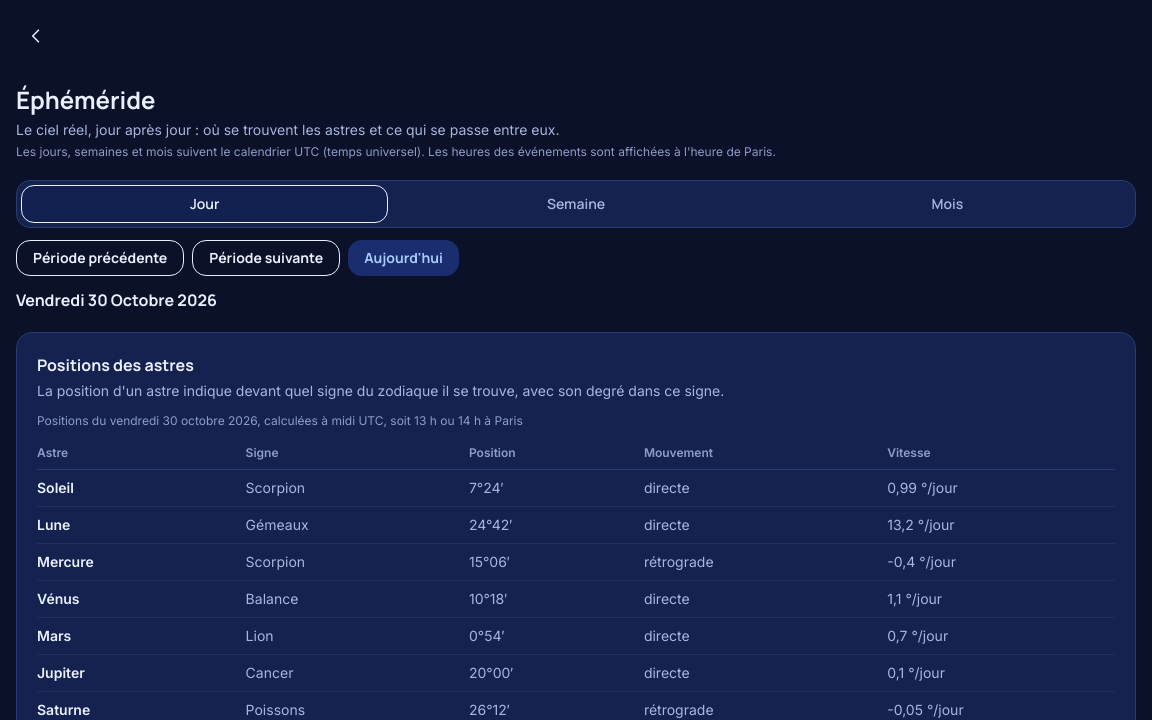
Test case: EphemerisFlow › navigue vers la période suivante puis revient à aujourd'hui
Step 1. Click the button "Période suivante" → (266, 258), box [192,240,340,276]
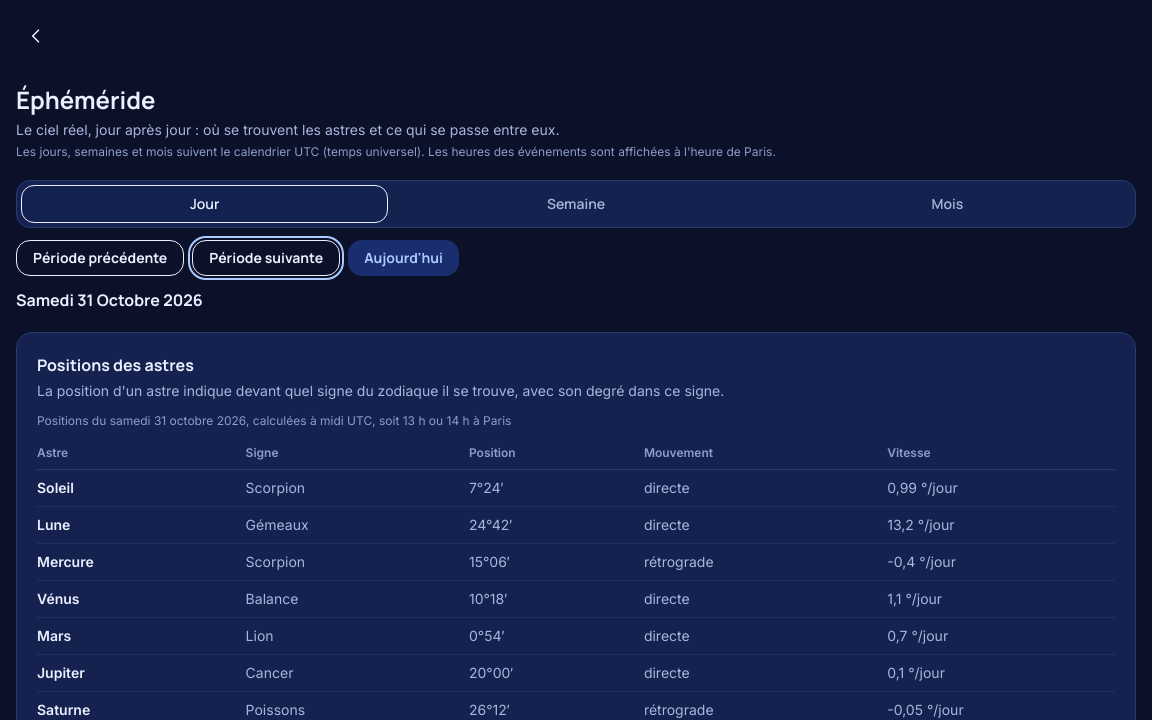
Step 2. Click the button "Aujourd'hui" → (404, 258), box [348,240,459,276]
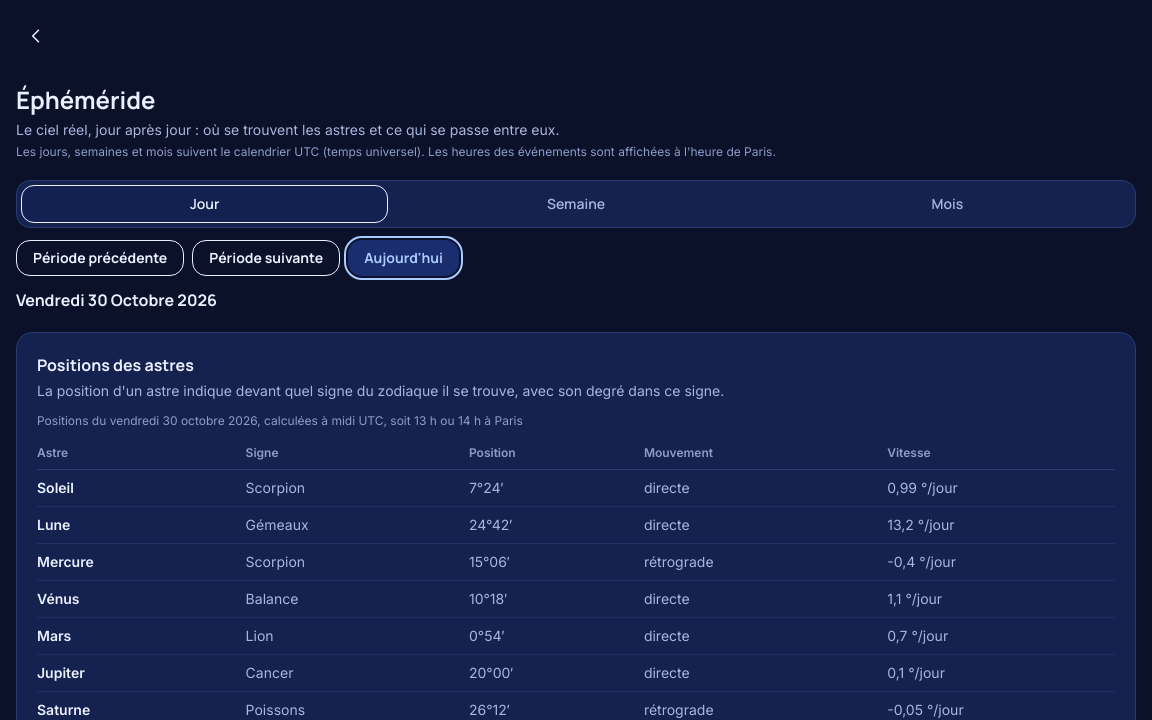
Result: the text with id "ephemeris__text--range" shows "30 octobre 2026" at [16,289,217,311]
